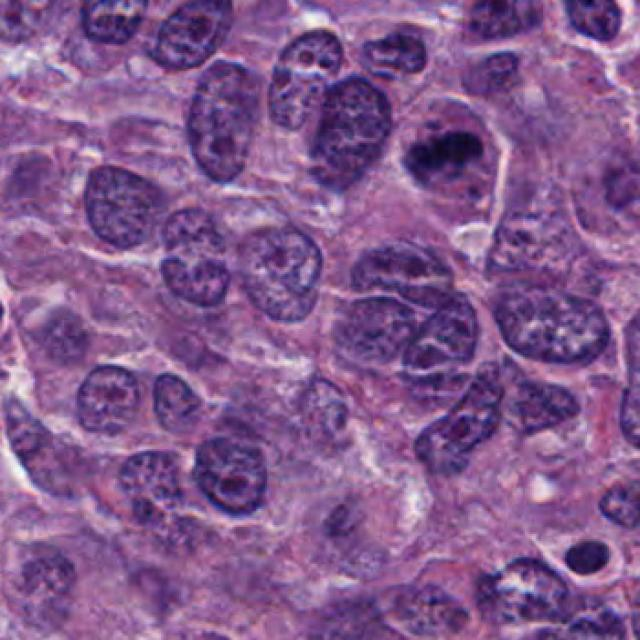fibroblast: (155, 331, 201, 361), (400, 366, 459, 384), (397, 283, 457, 297)
lymphocyte: (560, 541, 605, 573)
mitotic_figure: (411, 127, 490, 180)
tumor: (176, 57, 260, 182), (232, 214, 320, 316), (80, 156, 174, 246), (497, 290, 607, 361), (2, 394, 80, 493), (406, 378, 499, 460), (269, 34, 347, 127), (322, 78, 386, 189), (479, 202, 565, 272), (69, 359, 148, 433), (472, 555, 563, 617), (400, 297, 474, 368), (335, 297, 413, 364), (159, 0, 236, 67), (351, 232, 448, 281), (192, 438, 258, 506), (126, 451, 181, 522), (353, 28, 430, 78), (15, 539, 73, 605), (29, 302, 90, 364), (300, 375, 347, 454), (397, 587, 466, 640), (148, 370, 203, 433), (163, 256, 227, 306), (516, 382, 580, 426), (163, 210, 223, 255), (603, 150, 640, 203), (7, 161, 37, 196), (320, 506, 351, 532)
unlabeled: (313, 601, 377, 633), (377, 576, 413, 613)
